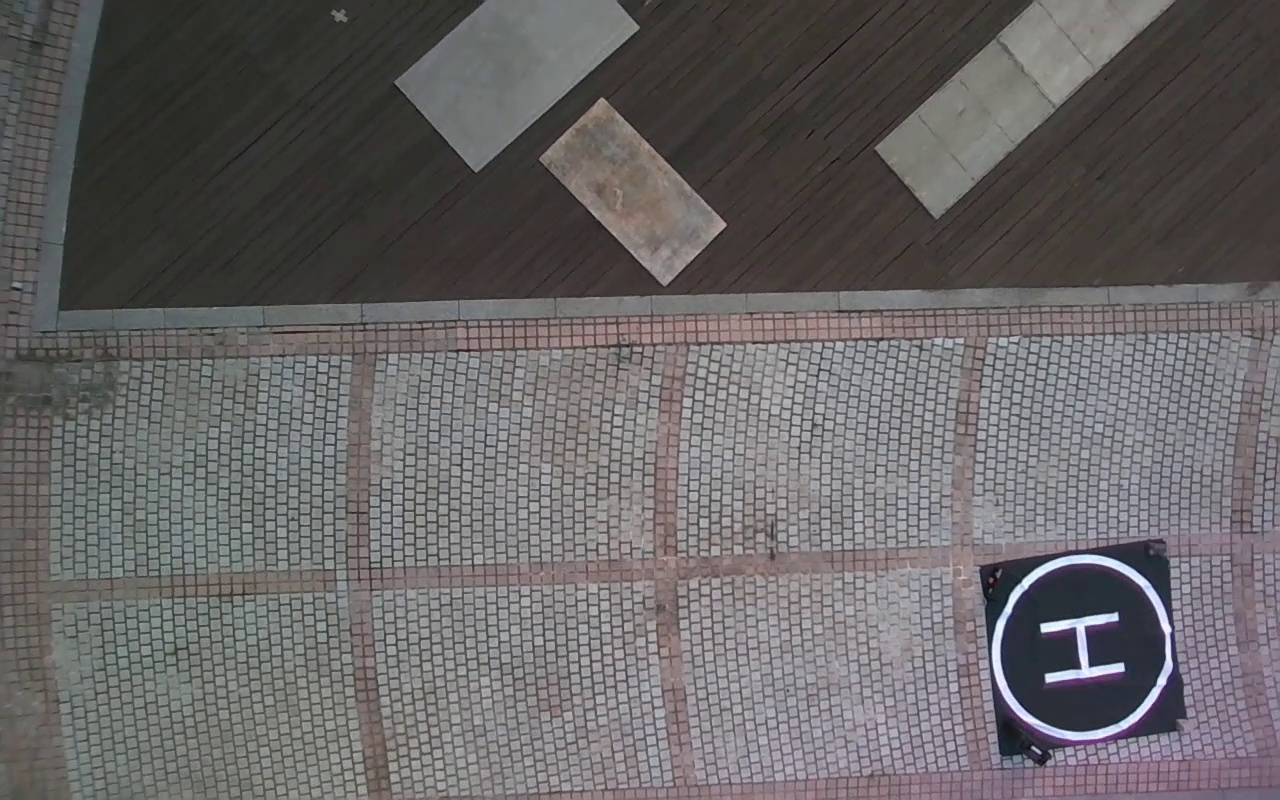H: (1037, 608, 1128, 688)
heliport: (993, 554, 1175, 739)
